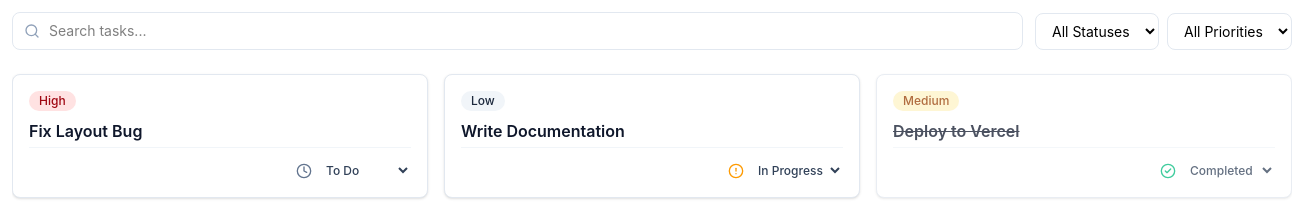
Test case: <TaskList /> › filters tasks based on search text input
Type "Bug" into the field with placeholder "Search tasks..." at (518, 31), box left=12, top=12, right=1023, bottom=50
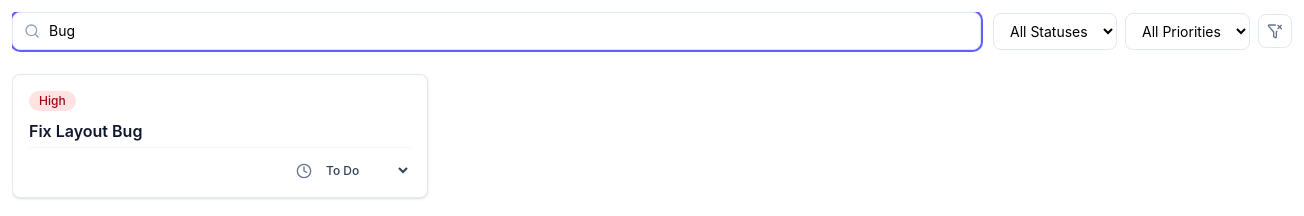
Expected: the heading "Fix Layout Bug" is shown, left=29, top=121, right=142, bottom=141
Expected: the heading "Write Documentation" is gone
